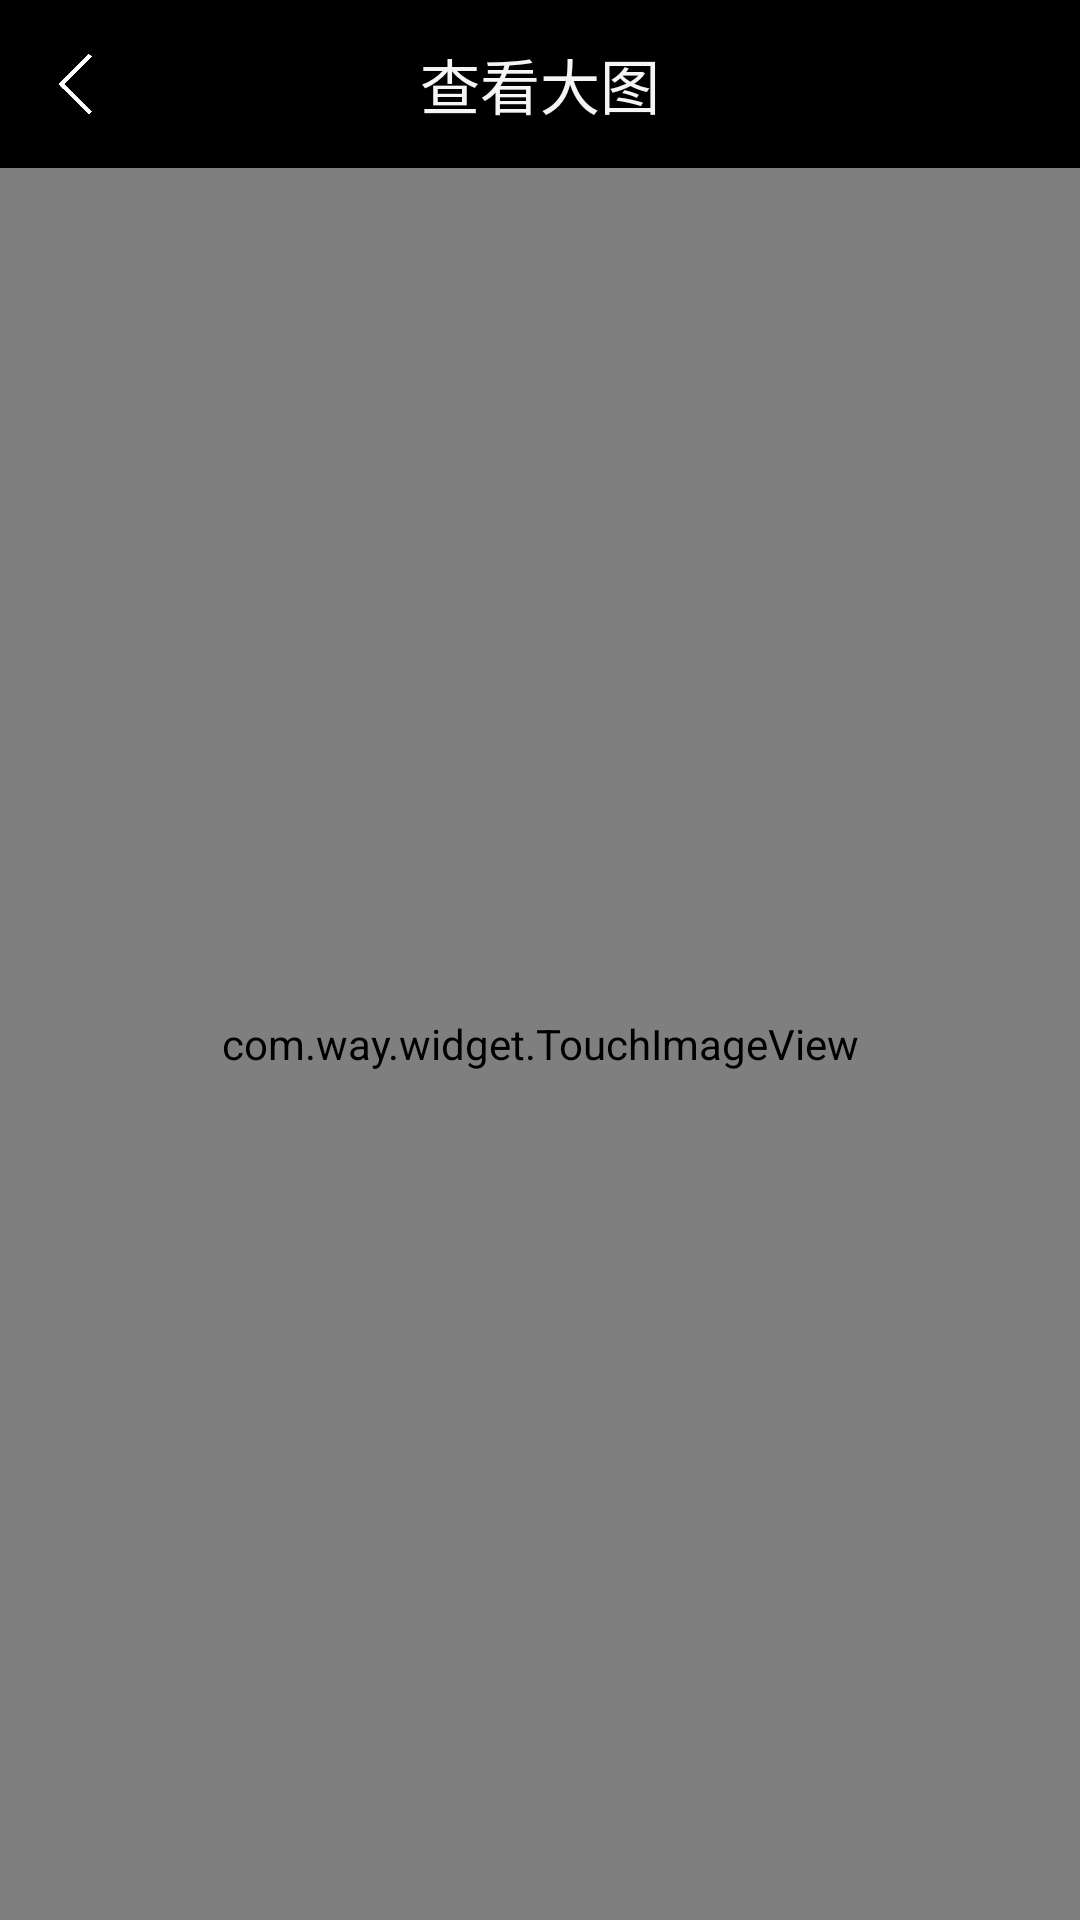

Icons on this 1080x1920 Android screen, each with its box as (x1, y1, x2, y2):
back: (58, 54, 92, 114)
